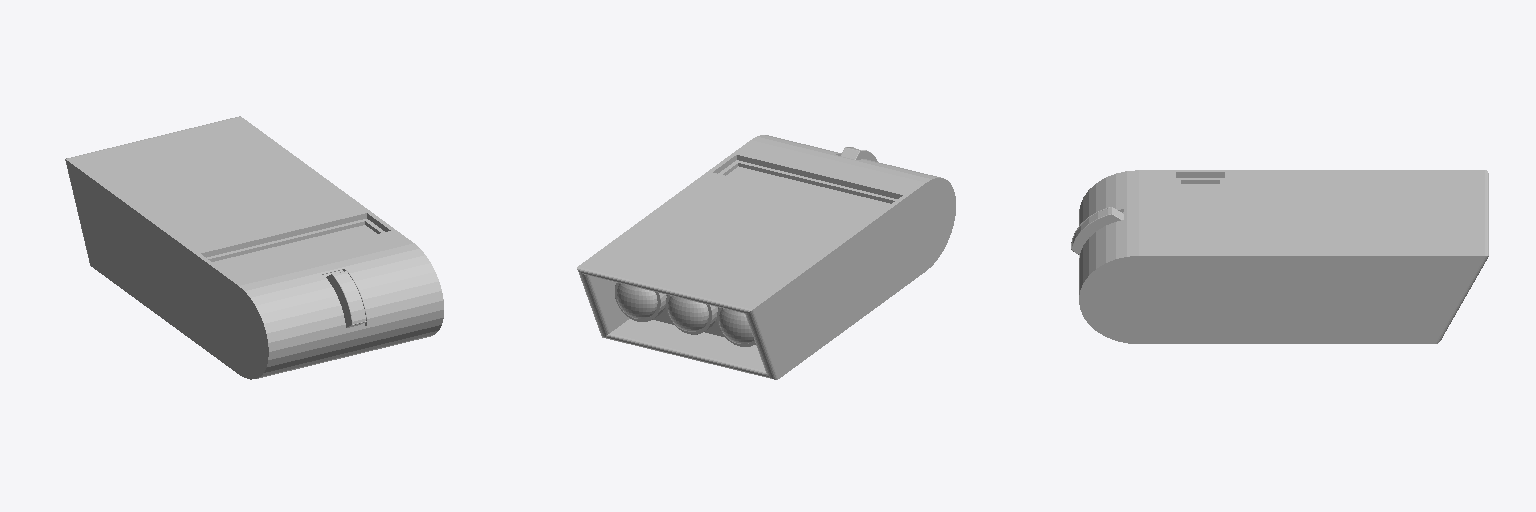
File: PortalGunBody.obj
3 views of the same model, side by side, from view 1: azimuth 30°, elevation 25°; view 2: azimuth 150°, elevation 25°; view 3: azimuth 270°, elevation 25° (orthographic).
Visible parts, largest first — view 1: GunBody; view 2: GunBody, FrontBulb; view 3: GunBody.
Part boxes in pixels (left/top/right/bottom): GunBody: left=65, top=116, right=443, bottom=379; GunBody: left=577, top=135, right=955, bottom=379; FrontBulb: left=615, top=283, right=755, bottom=346; GunBody: left=1071, top=170, right=1488, bottom=343.
Size of the model in its own units: 3.37 by 1.67 by 6.94.